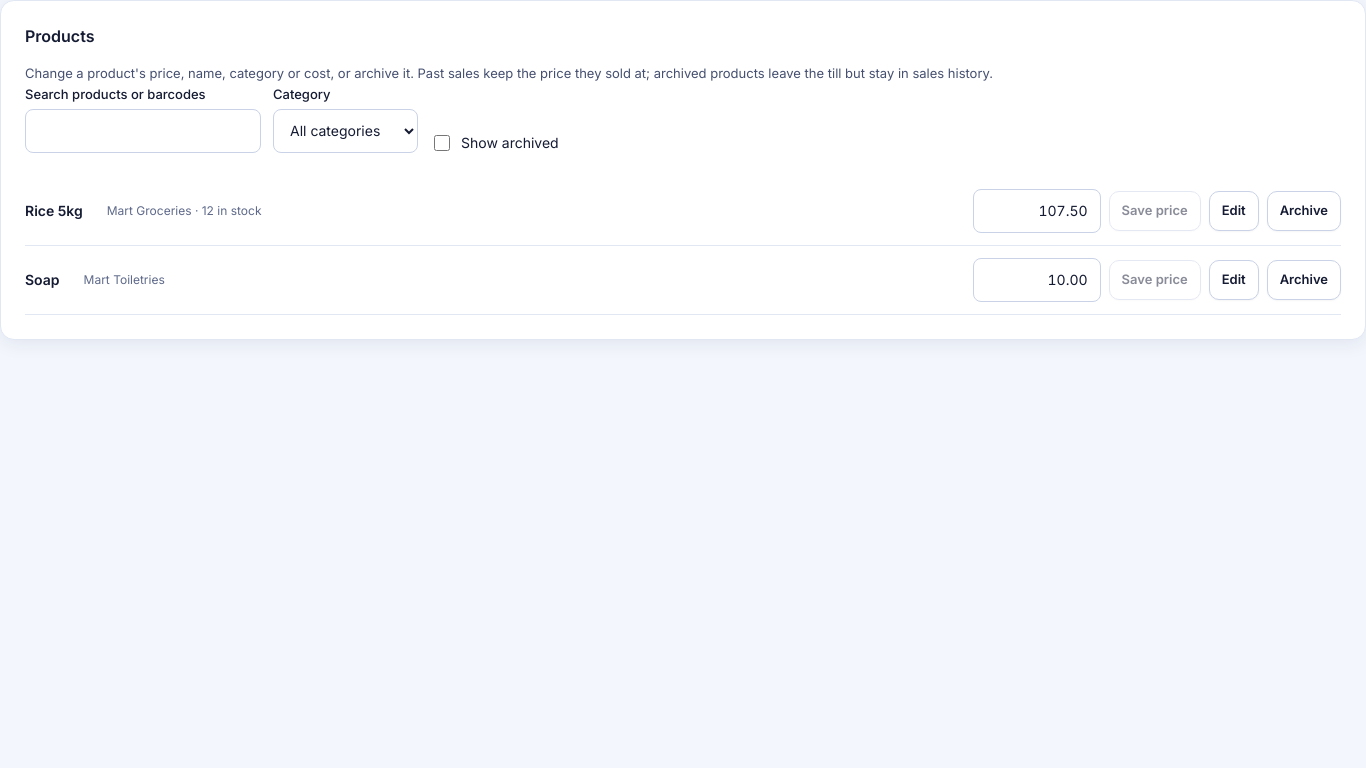
Test: <ProductsCard> › keeps the edit dialog open with the reason when the server refuses (a duplicate name)
Click the button with aria-label "Edit Rice 5kg".
click(1234, 211)  # box [1209,191,1259,231]
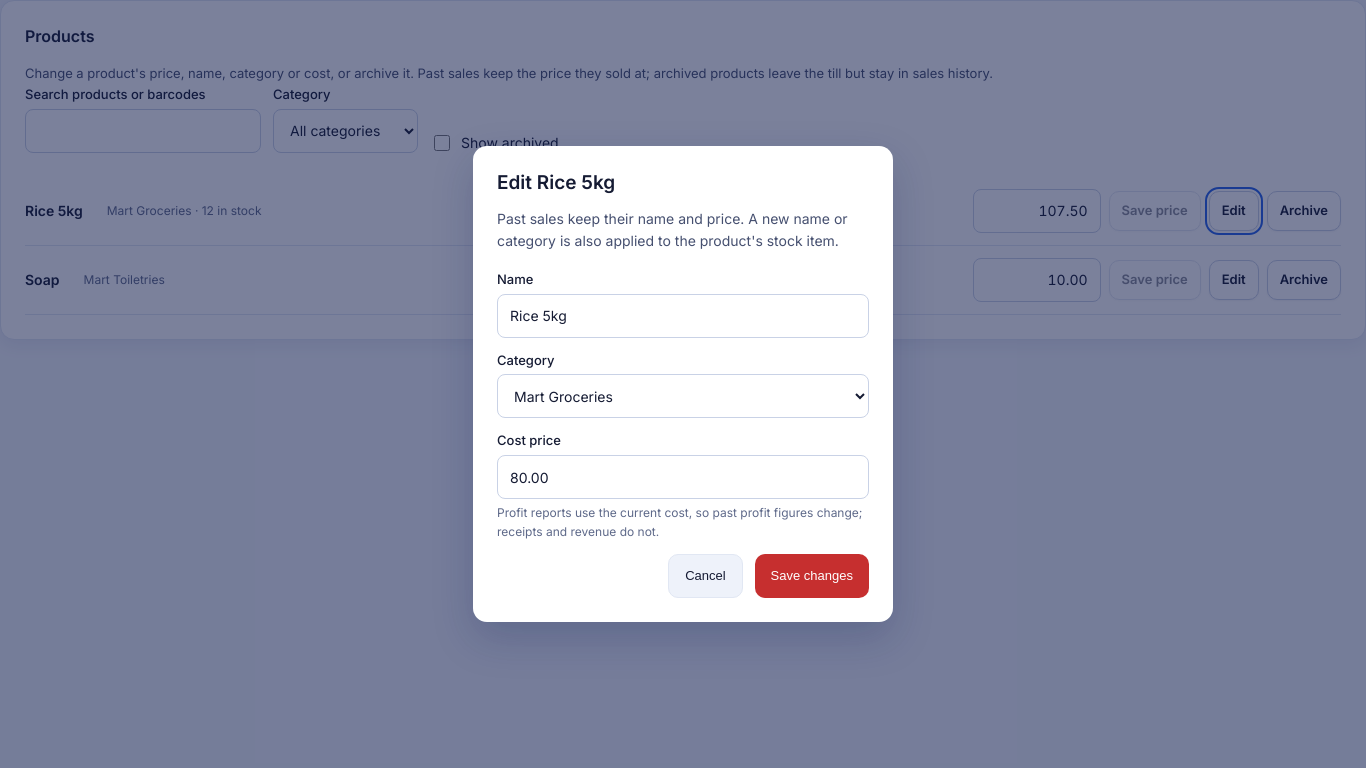
Replace the text in the field labelled "Name" with "Soap" at (683, 316), box [497,294,869,338]
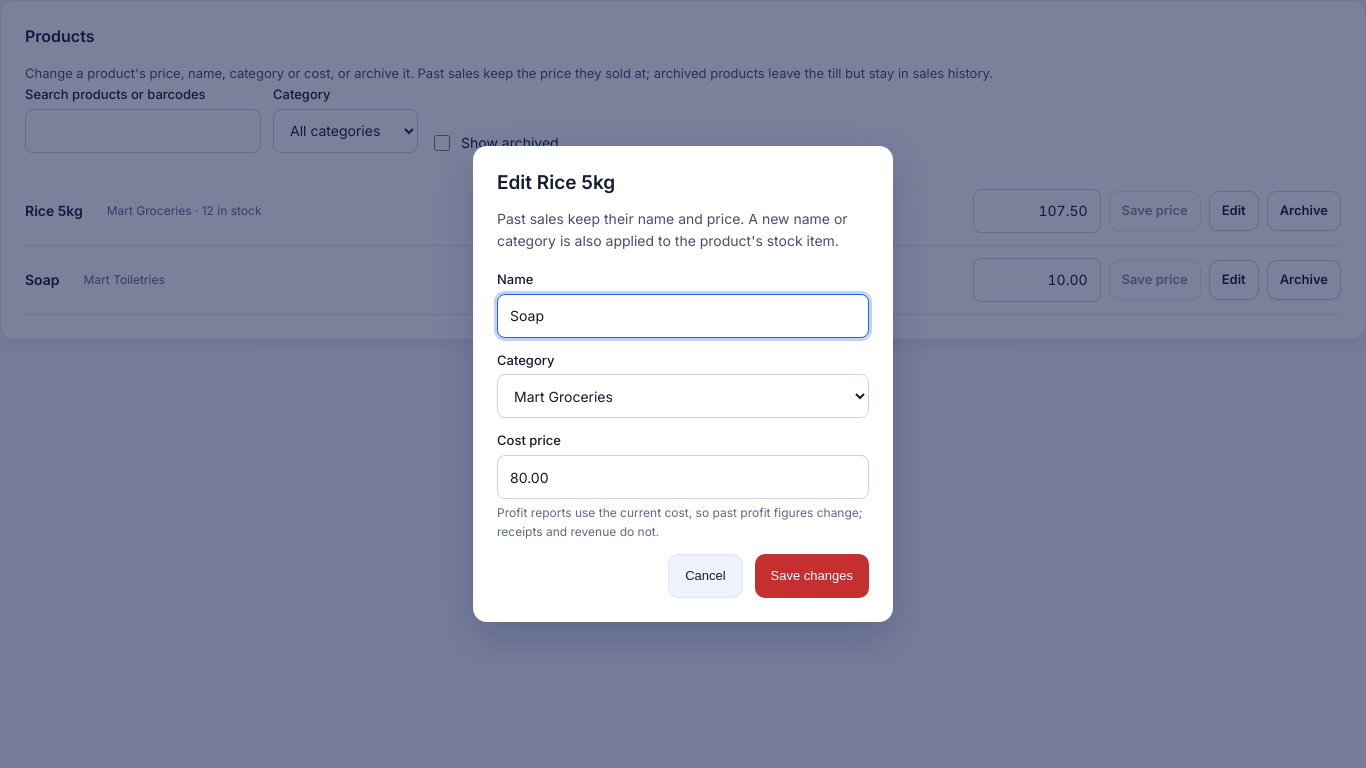
Click the button "Save changes".
click(812, 576)  # box [755,554,869,598]
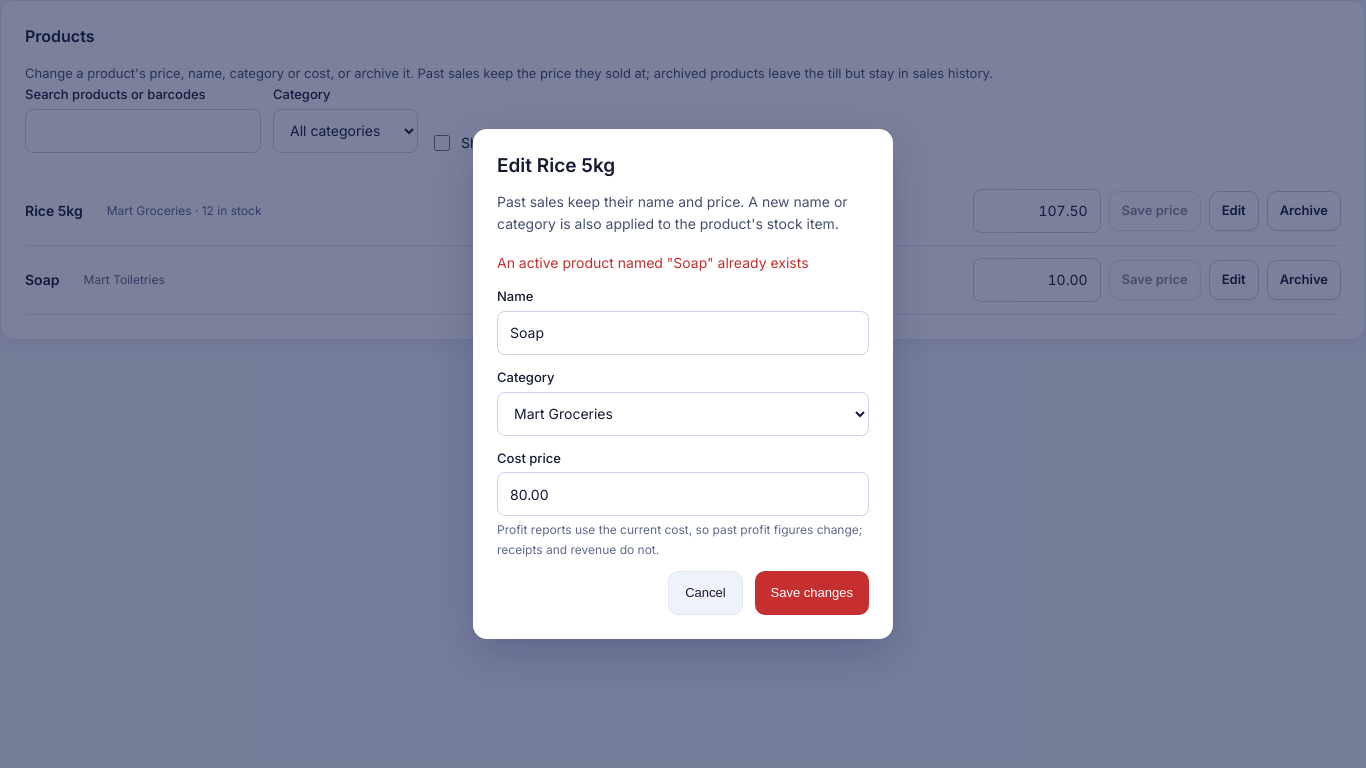
Result: the message shows "already exists" at [497,254,809,271]
